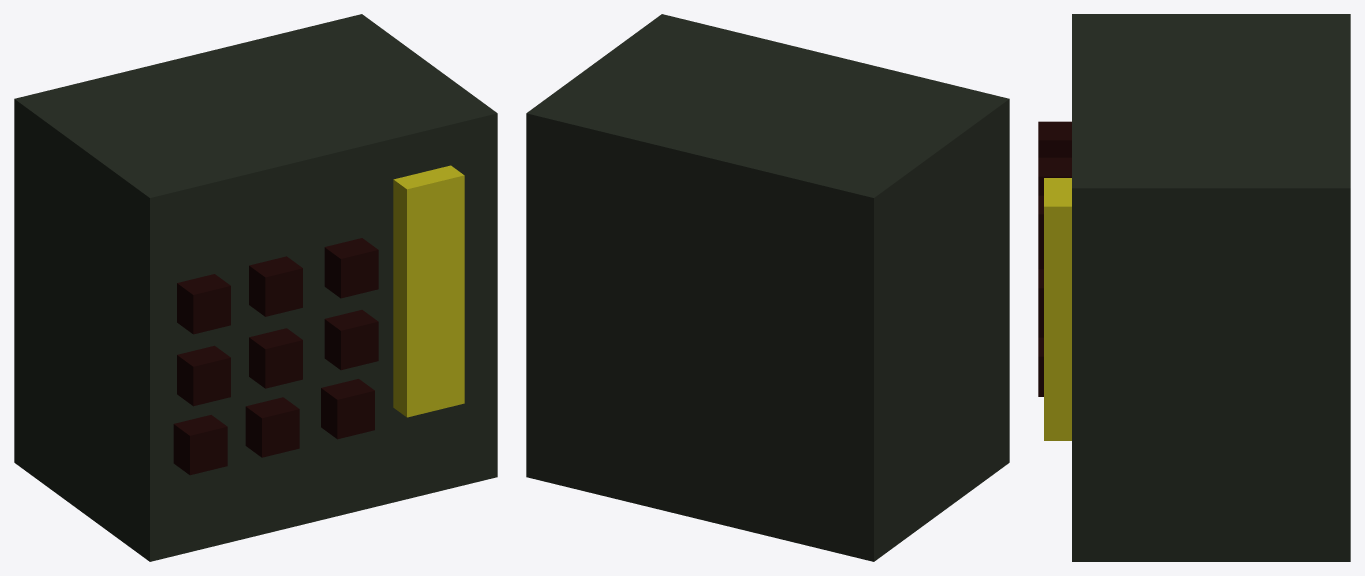
Rendered from bomb_working.obj.
3 renders of one model, left to right at view 1: azimuth 30°, elevation 25°; view 2: azimuth 150°, elevation 25°; view 3: azimuth 270°, elevation 25°, orthographic. The views are drawn at different scales.
Parts seen in each view (by area): view 1: Cube_Cube.001, Cube.010_Cube.012, Cube.008_Cube.010, Cube.003_Cube.004, Cube.009_Cube.011, Cube.006_Cube.008, Cube.007_Cube.009, Cube.004_Cube.006, Cube.001_Cube.002, Cube.002_Cube.003, Cube.005_Cube.007; view 2: Cube_Cube.001; view 3: Cube_Cube.001, Cube.010_Cube.012, Cube.001_Cube.002, Cube.002_Cube.003.
Part boxes in pixels (box(x1,y1,x2,y2)): Cube_Cube.001: box(14, 14, 497, 561); Cube.010_Cube.012: box(393, 165, 464, 417); Cube.008_Cube.010: box(245, 397, 299, 457); Cube.003_Cube.004: box(324, 238, 378, 298); Cube.009_Cube.011: box(173, 415, 227, 475); Cube.006_Cube.008: box(324, 310, 378, 370); Cube.007_Cube.009: box(321, 379, 374, 439); Cube.004_Cube.006: box(177, 345, 230, 406); Cube.001_Cube.002: box(177, 274, 230, 334); Cube.002_Cube.003: box(249, 256, 302, 316); Cube.005_Cube.007: box(249, 328, 302, 388); Cube_Cube.001: box(526, 14, 1009, 561); Cube_Cube.001: box(1072, 14, 1350, 561); Cube.010_Cube.012: box(1044, 178, 1071, 440); Cube.001_Cube.002: box(1038, 121, 1071, 157); Cube.002_Cube.003: box(1038, 157, 1071, 195).
Bounding box in the file's own units: 2 × 2 × 1.51.
